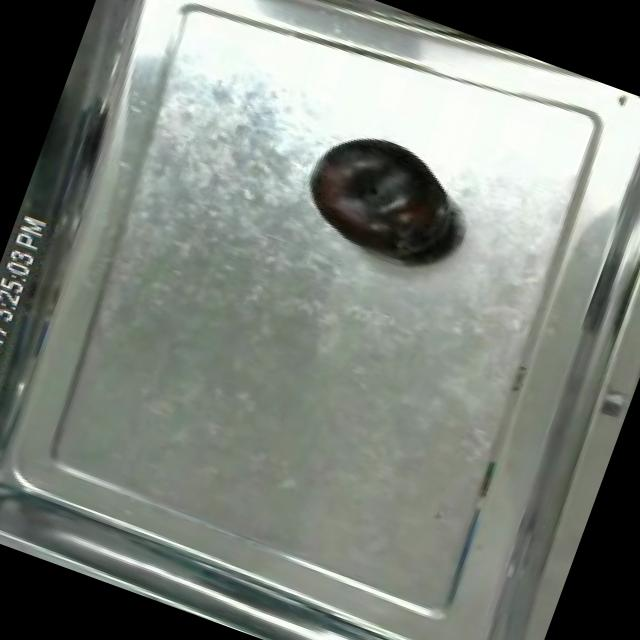Fruit: (286, 114, 478, 282)
